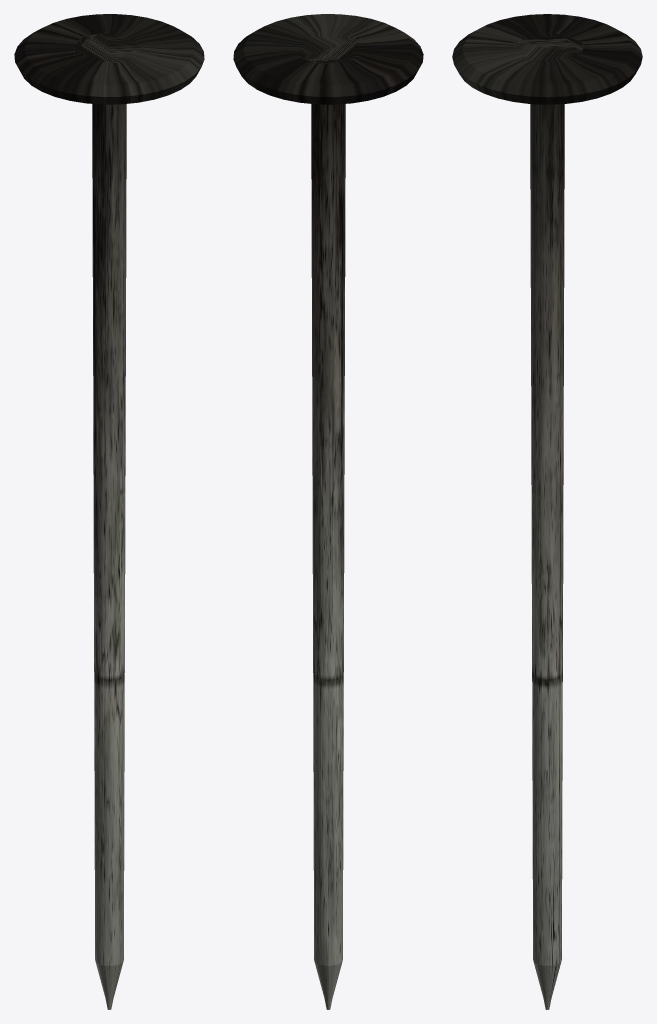
The model's file is CLAVO.glb.
3 renders of one model, left to right at view 1: azimuth 30°, elevation 25°; view 2: azimuth 150°, elevation 25°; view 3: azimuth 270°, elevation 25°, orthographic.
Parts seen in each view (by area): view 1: Cilindro; view 2: Cilindro; view 3: Cilindro.
Boxes of the visible parts, x1,y1,x2,y2 form: Cilindro: (14, 14, 204, 1009); Cilindro: (233, 14, 423, 1009); Cilindro: (452, 14, 642, 1009).
Bounding box in the file's own units: 0.4462 × 2.48 × 0.4462.
Materials: 1 (1 with a texture image).
